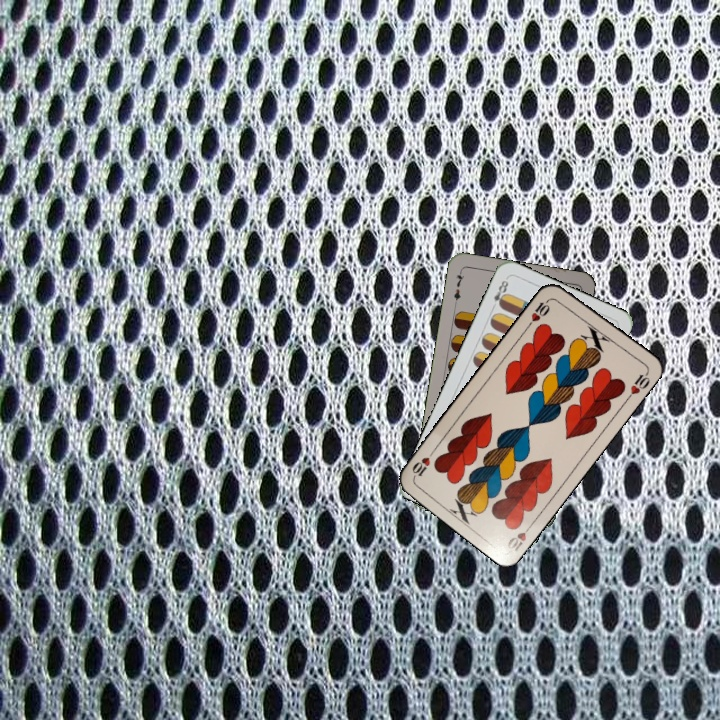E7: (449, 267, 467, 308)
E8: (487, 276, 511, 312)
H10: (503, 519, 537, 554), (524, 294, 554, 329)
